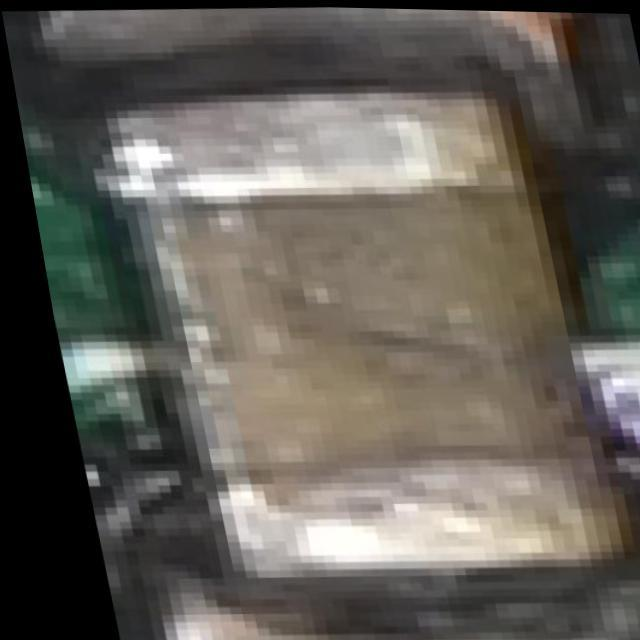Capacitor: (87, 70, 618, 594)
